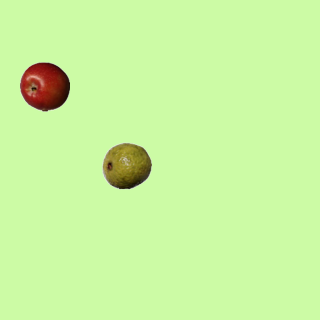Apple Braeburn: (19, 61, 69, 111)
Guava: (101, 140, 151, 190)
